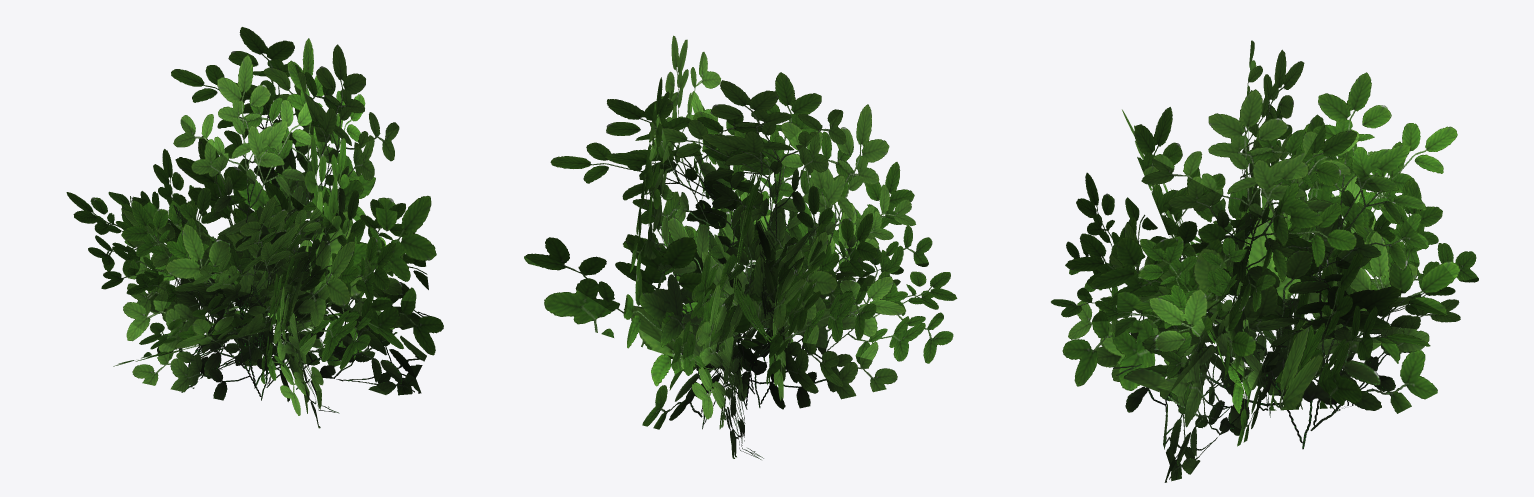
Rendered from bush_2.dae.
3 renders of one model, left to right at view 1: azimuth 30°, elevation 25°; view 2: azimuth 150°, elevation 25°; view 3: azimuth 270°, elevation 25°, orthographic. The views are drawn at different scales.
Parts seen in each view (by area): view 1: Mesh_Object; view 2: Mesh_Object; view 3: Mesh_Object.
Part boxes in pixels (<box>): Mesh_Object: <box>66,27,443,428</box>; Mesh_Object: <box>524,35,957,459</box>; Mesh_Object: <box>1051,40,1478,482</box>.
Size of the model in its own units: 2.64 by 2.67 by 2.84.
